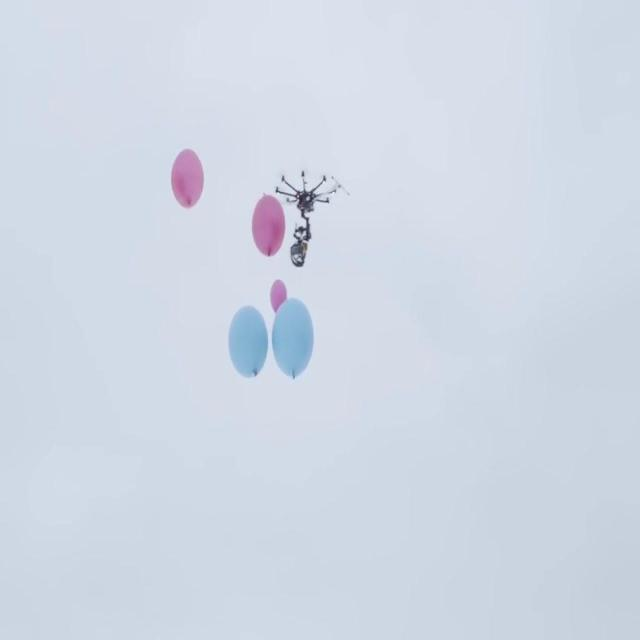drone: (276, 169, 340, 270)
